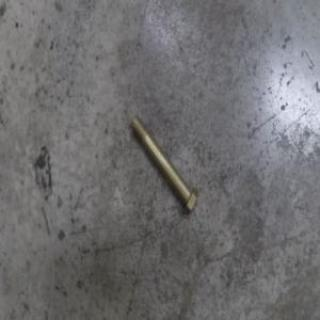Bolttrack_idkeyframe: (128, 114, 198, 215)
